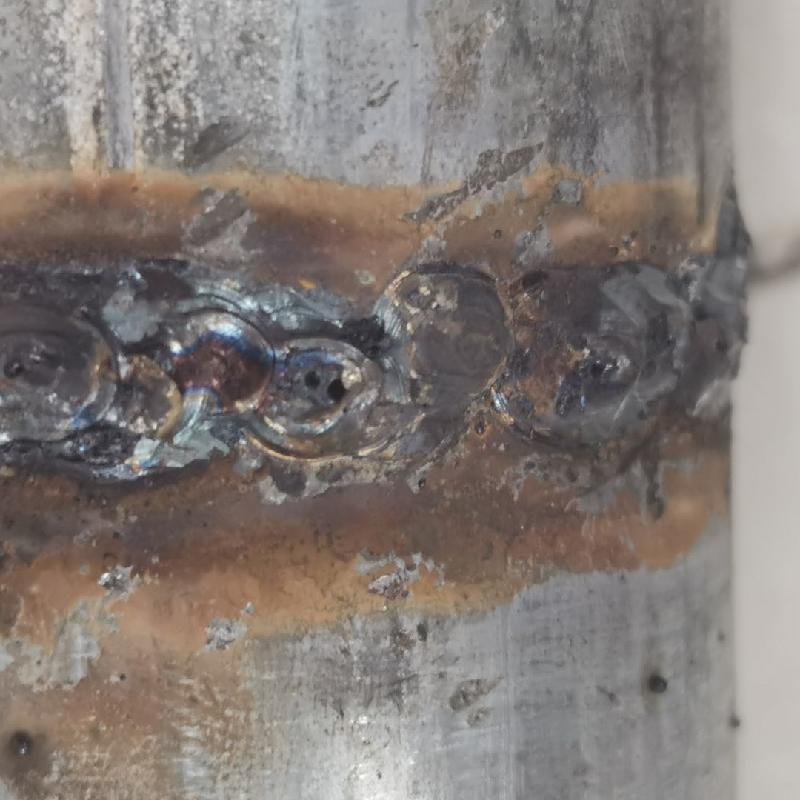Surface_pores: (292, 355, 362, 430)
crater: (4, 270, 376, 481)
wrong_size: (377, 245, 758, 444)
